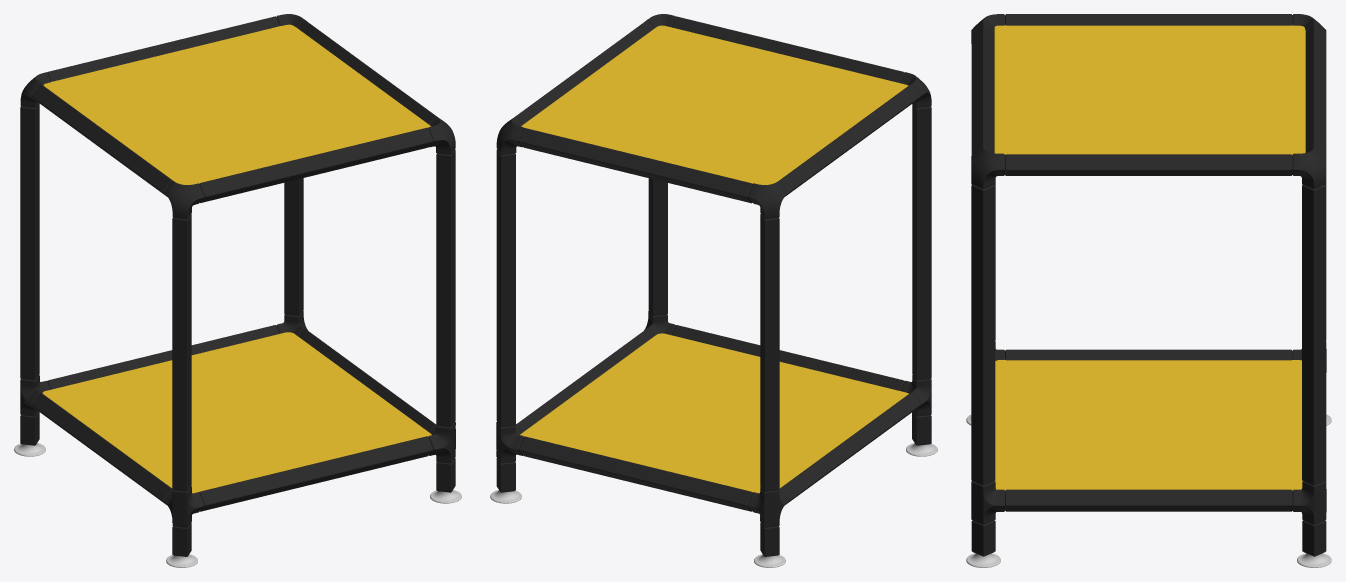
3 views of the same model, side by side, from view 1: azimuth 30°, elevation 25°; view 2: azimuth 150°, elevation 25°; view 3: azimuth 270°, elevation 25° (orthographic). The views are drawn at different scales.
Visible parts, largest first — view 1: 329x329x374; view 2: 329x329x374; view 3: 329x329x374.
Part boxes in pixels (left/top/right/bottom): 329x329x374: left=14, top=14, right=461, bottom=567; 329x329x374: left=490, top=14, right=937, bottom=567; 329x329x374: left=966, top=14, right=1331, bottom=567.
Size of the model in its own units: 0.4189 by 0.5133 by 0.4183.
